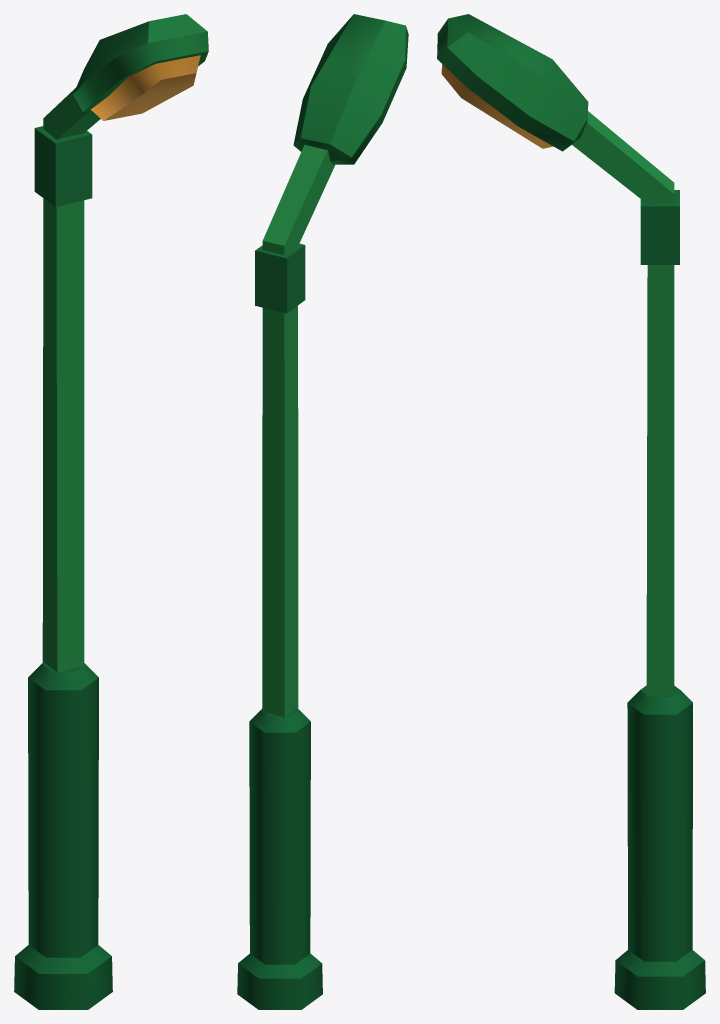
Rendered from Lamp_Court_1_G.fbx.
3 views of the same model, side by side, from view 1: azimuth 30°, elevation 25°; view 2: azimuth 150°, elevation 25°; view 3: azimuth 270°, elevation 25° (orthographic). The views are drawn at different scales.
Visible parts, largest first — view 1: Lamp_Court_1_G; view 2: Lamp_Court_1_G; view 3: Lamp_Court_1_G.
Part boxes in pixels (x1,y1,x2,y2): Lamp_Court_1_G: (14, 14, 208, 1009); Lamp_Court_1_G: (237, 14, 408, 1009); Lamp_Court_1_G: (437, 14, 705, 1009).
Size of the model in its own units: 58.67 by 648 by 163.
